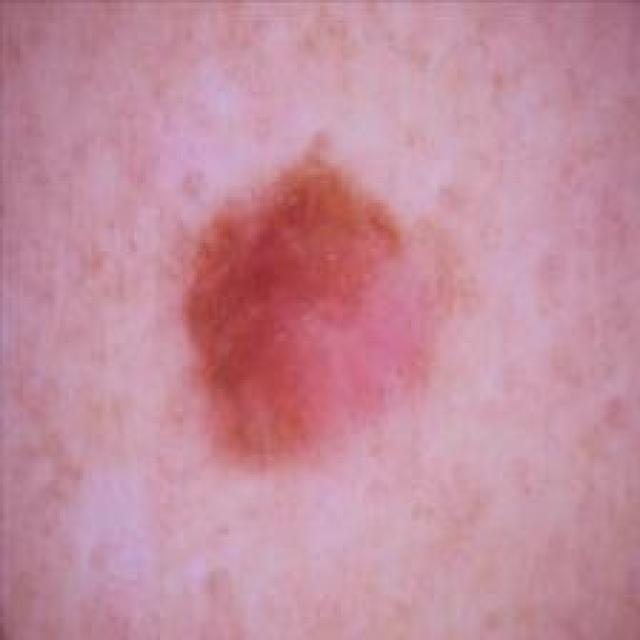Cancer: (177, 128, 466, 468)
